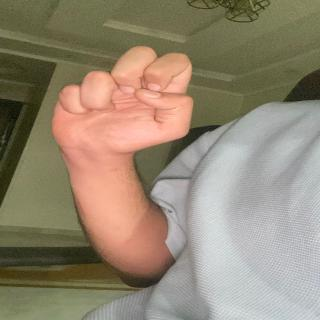QAAF: (57, 32, 206, 156)
